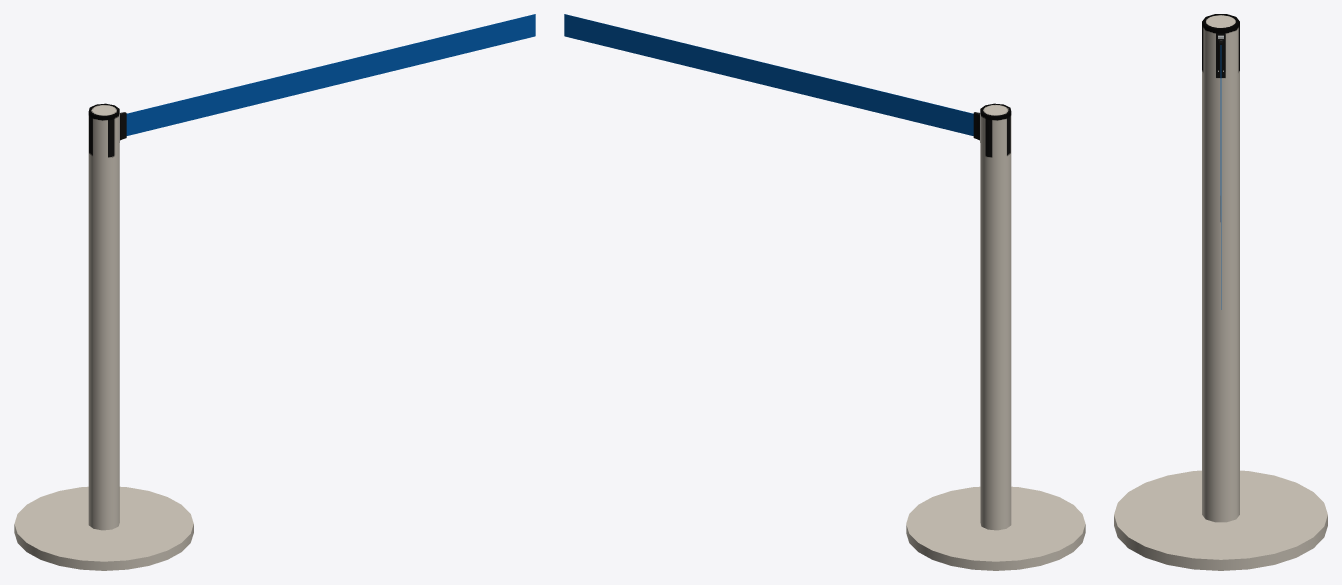
The model's file is Personenleitsystem_Blue1m.fbx.
3 renders of one model, left to right at view 1: azimuth 30°, elevation 25°; view 2: azimuth 150°, elevation 25°; view 3: azimuth 270°, elevation 25°, orthographic. The views are drawn at different scales.
Parts seen in each view (by area): view 1: Personenleitsystem_Blue1m; view 2: Personenleitsystem_Blue1m; view 3: Personenleitsystem_Blue1m.
Part boxes in pixels (x1,y1,x2,y2): Personenleitsystem_Blue1m: [14, 14, 535, 570]; Personenleitsystem_Blue1m: [564, 14, 1085, 570]; Personenleitsystem_Blue1m: [1114, 14, 1327, 570].
Size of the model in its own units: 115 by 91 by 35.
